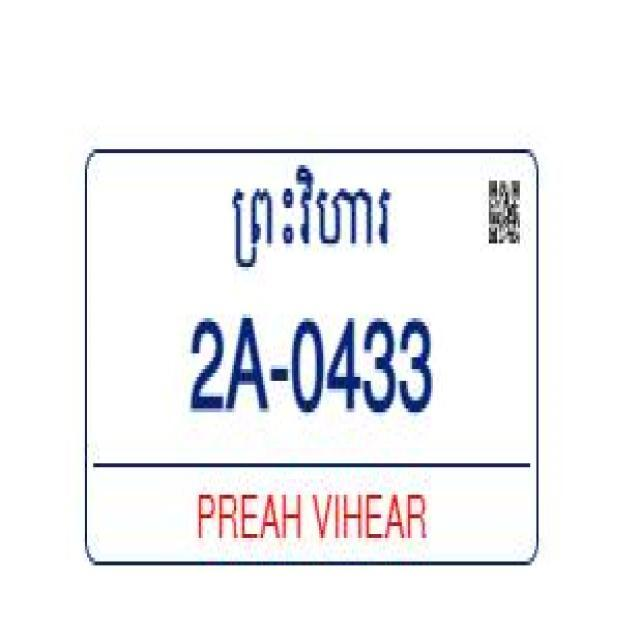Preah_Vihear: (232, 161, 392, 274)
